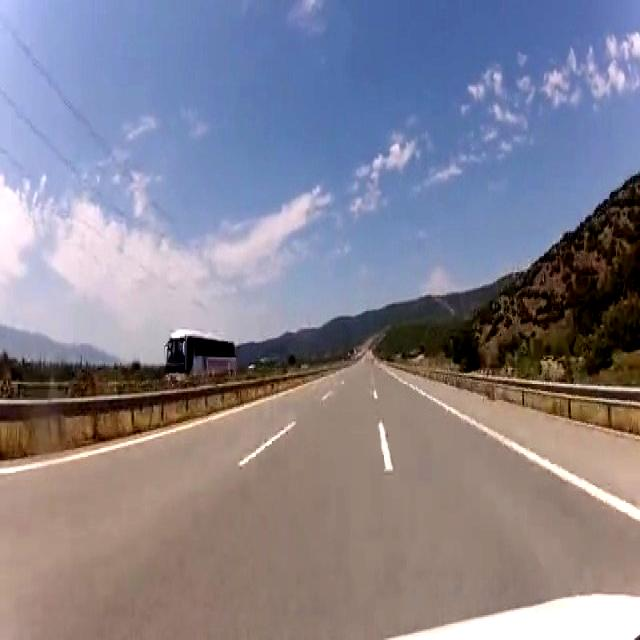lane: (379, 364, 640, 521), (239, 422, 296, 466), (379, 420, 392, 470)
road: (0, 357, 639, 636), (402, 373, 639, 507)
